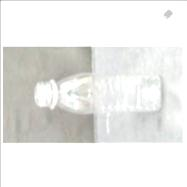bottle: (33, 71, 165, 115)
